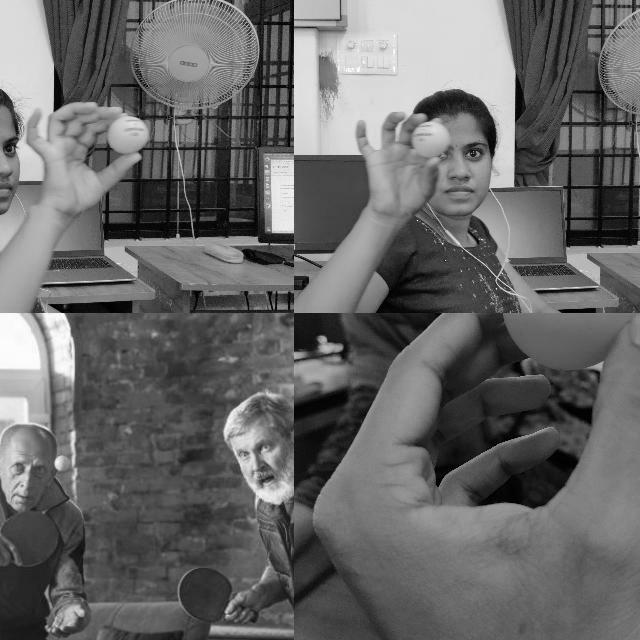ping-pong-ball: (501, 313, 639, 369), (107, 117, 145, 153), (410, 121, 448, 157), (54, 456, 68, 472)
